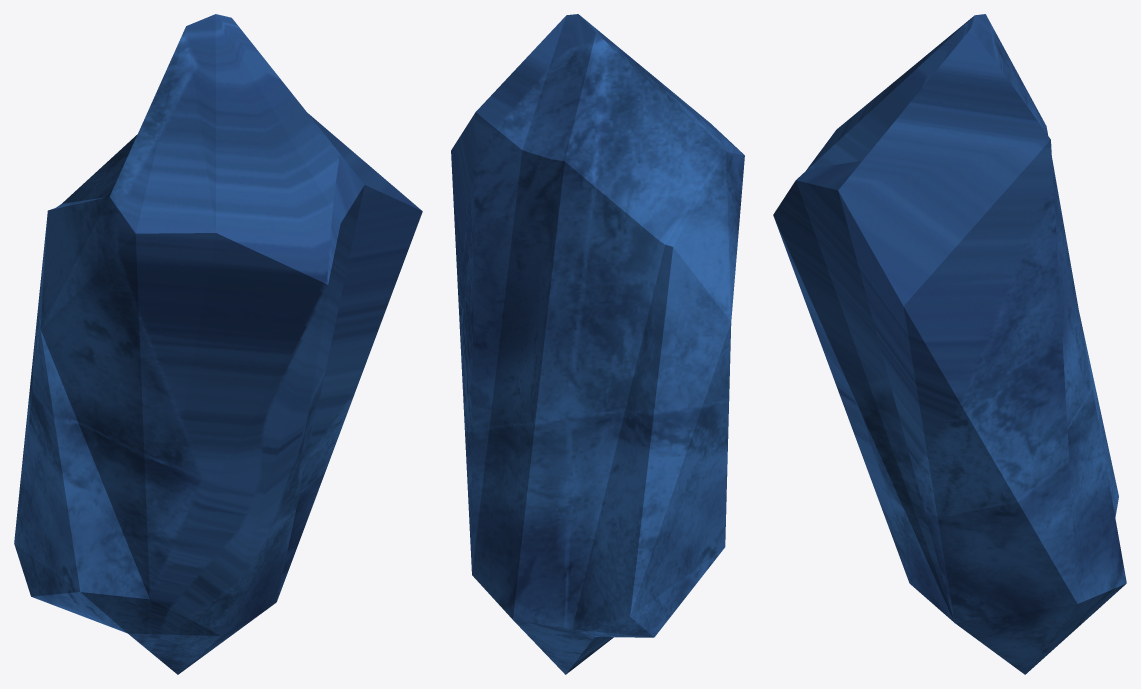
3 renders of one model, left to right at view 1: azimuth 30°, elevation 25°; view 2: azimuth 150°, elevation 25°; view 3: azimuth 270°, elevation 25°, orthographic. The views are drawn at different scales.
Visible parts, largest first — view 1: mini1; view 2: mini1; view 3: mini1.
Part boxes in pixels (box(x1,y1,x2,y2)): mini1: box(14, 14, 422, 674); mini1: box(451, 14, 744, 674); mini1: box(773, 14, 1126, 674).
Bounding box in the file's own units: 34.92 × 66.58 × 32.07.
